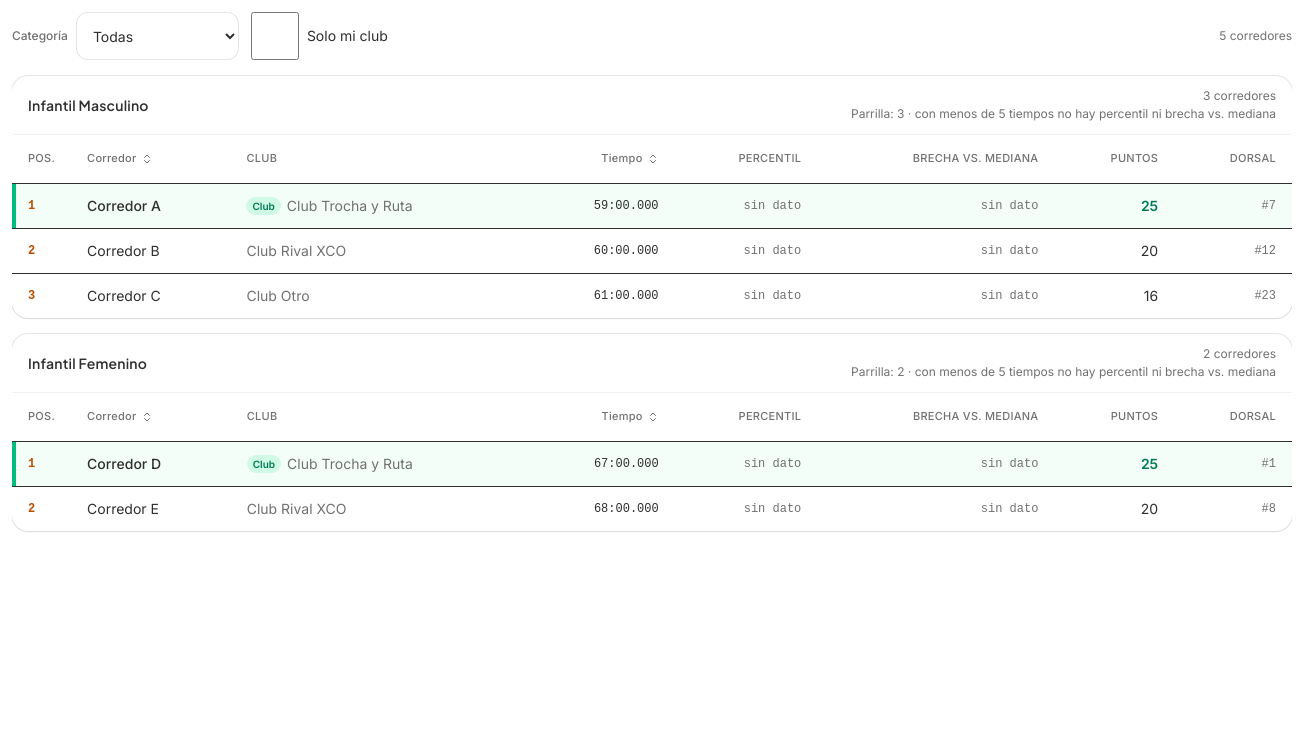
Test: ResultsTable — filtro de categoría › filtra a la categoría seleccionada
Select "Infantil Femenino" in the dropdown with test id "results-category-select" at [157, 36], box x1=76 y1=12 x2=239 y2=60
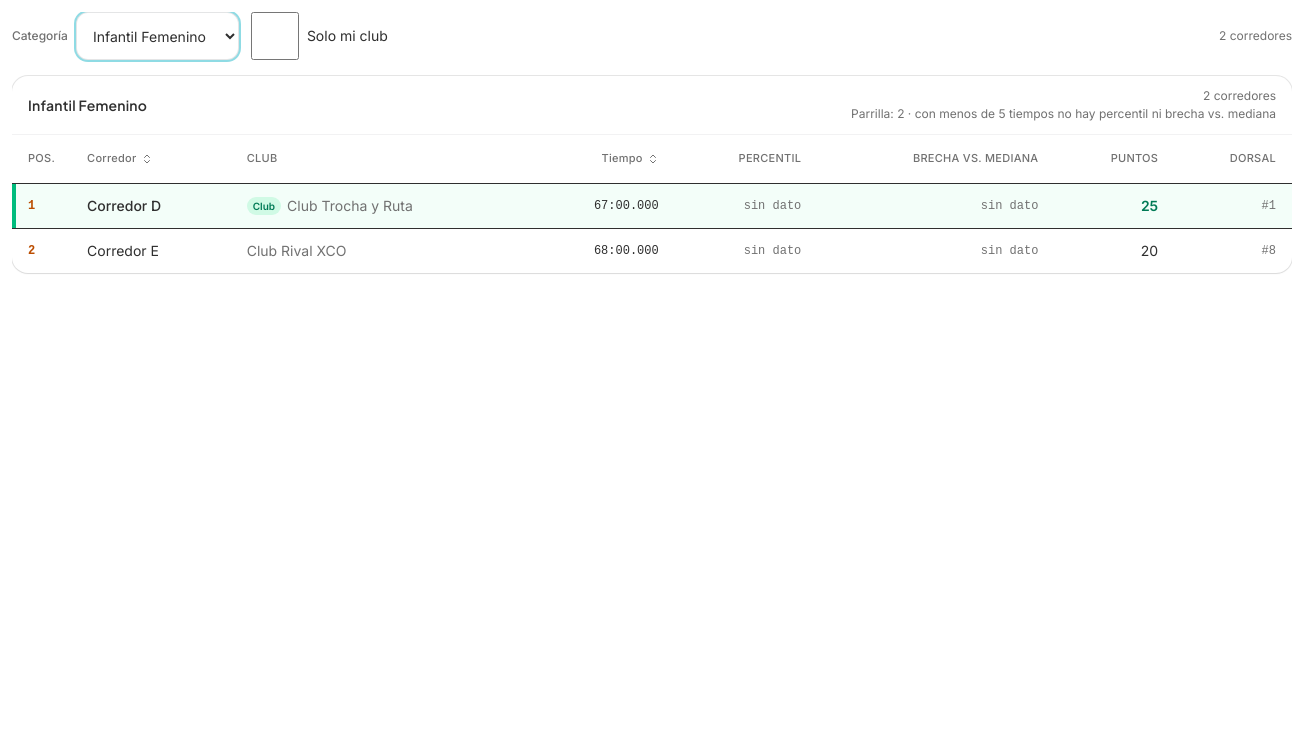
expect the element with test id "results-category-section-2" is shown: met, box x1=12 y1=76 x2=1292 y2=273
expect the element with test id "results-category-section-1" is gone: met
